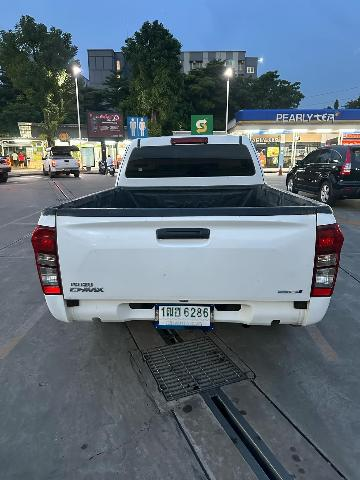pickup-truck: (28, 122, 346, 344)
